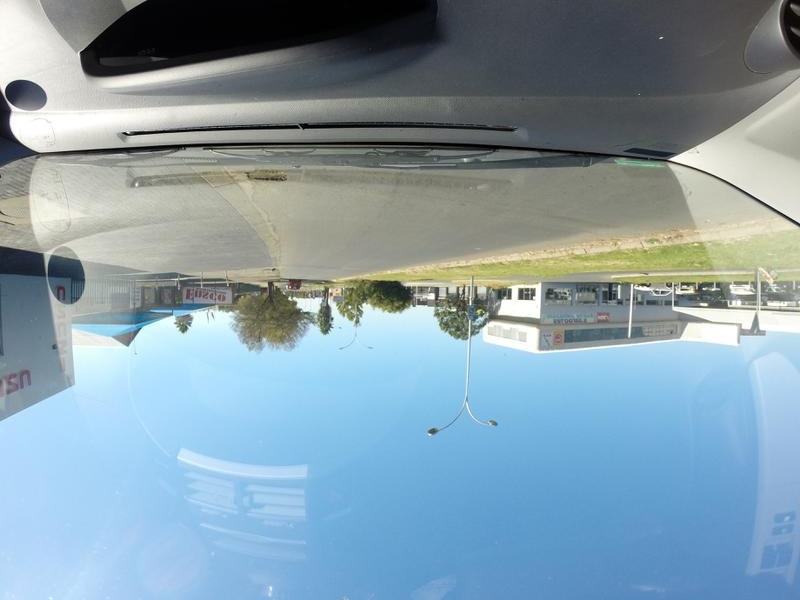pothole: (245, 166, 299, 189)
